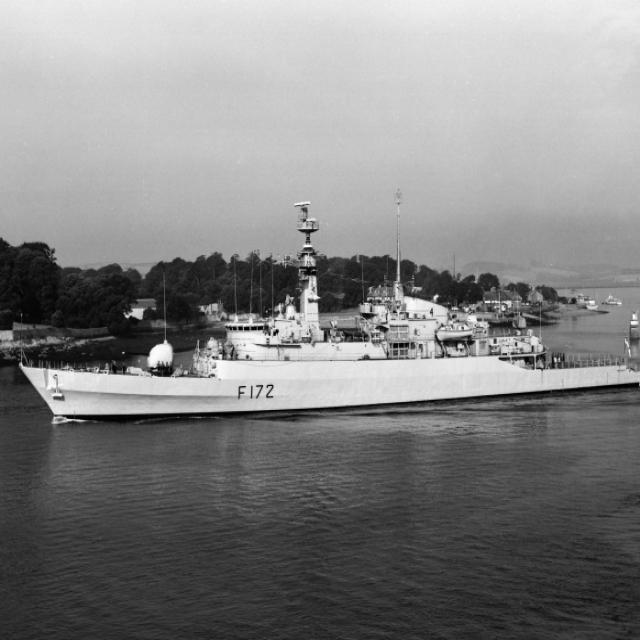Fragata: (14, 185, 640, 434)
